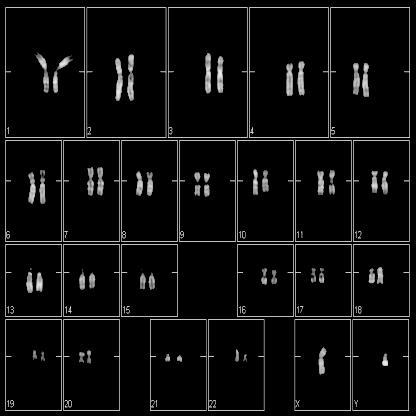1: (52, 53, 74, 95), (32, 48, 50, 94)
10: (252, 168, 260, 198), (260, 168, 268, 194)
11: (316, 169, 325, 197), (328, 167, 336, 198)
12: (370, 168, 378, 195), (382, 168, 390, 194)
13: (25, 266, 34, 294), (35, 271, 44, 294)
14: (88, 269, 96, 292), (78, 268, 86, 290)
15: (138, 266, 146, 291), (148, 269, 156, 291)
16: (260, 266, 268, 288), (271, 268, 278, 286)
17: (316, 266, 326, 286), (310, 266, 318, 284)
18: (367, 266, 376, 284), (376, 264, 384, 284)
19: (31, 347, 38, 362), (38, 350, 46, 362)
2: (126, 52, 136, 103), (114, 56, 124, 104)
20: (76, 350, 86, 364), (86, 348, 92, 367)
21: (176, 352, 184, 366), (164, 352, 172, 364)
22: (233, 346, 240, 364), (243, 352, 248, 365)
3: (216, 54, 225, 96), (204, 51, 212, 96)
4: (284, 60, 294, 97), (298, 58, 306, 98)
5: (362, 61, 370, 100), (352, 60, 360, 96)
6: (38, 168, 48, 209), (27, 170, 36, 206)
7: (96, 164, 105, 198), (86, 166, 96, 196)
8: (143, 169, 155, 198), (135, 168, 145, 199)
9: (202, 171, 210, 200), (193, 170, 200, 200)
X: (317, 345, 328, 376)
Y: (382, 350, 388, 369)
